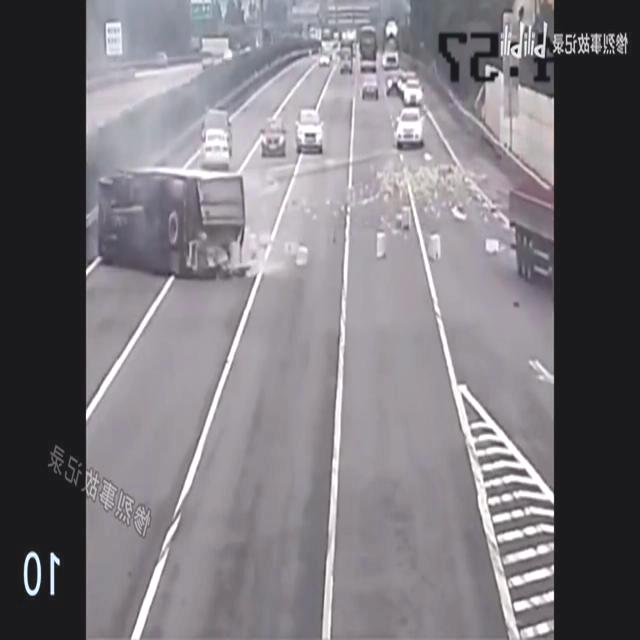accident: (98, 170, 245, 276), (200, 110, 232, 167), (384, 68, 424, 106)
